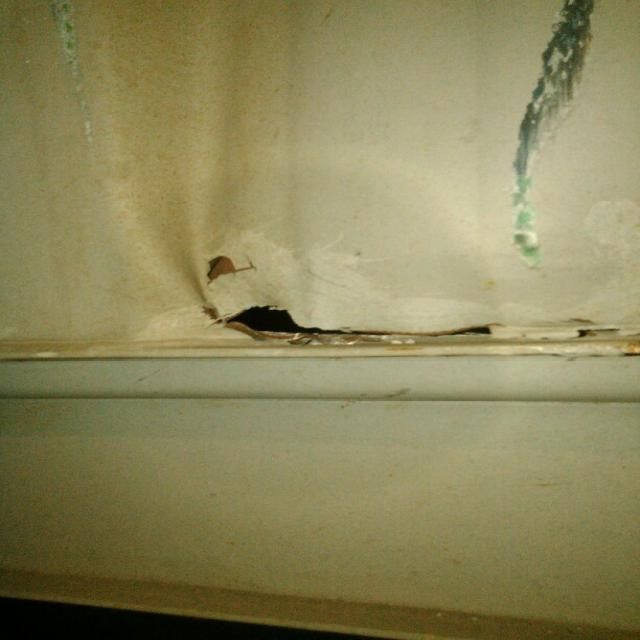dent: (101, 14, 196, 355), (198, 293, 624, 358)
